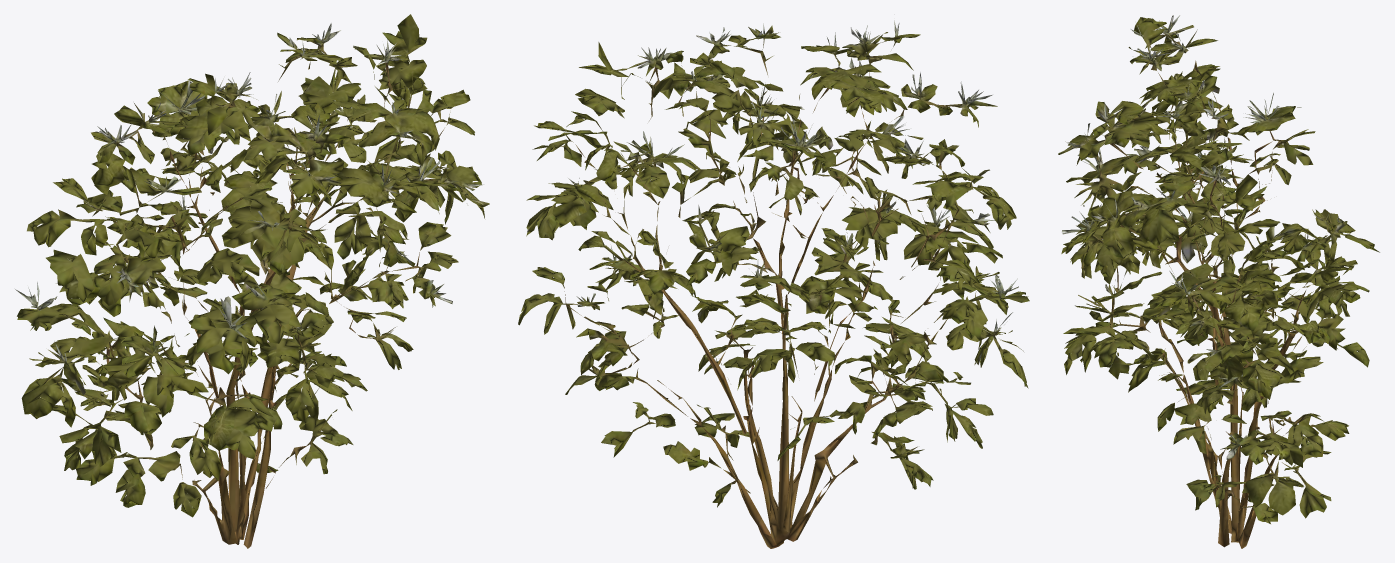
Rendered from NoodleTree.glb.
3 renders of one model, left to right at view 1: azimuth 30°, elevation 25°; view 2: azimuth 150°, elevation 25°; view 3: azimuth 270°, elevation 25°, orthographic. The views are drawn at different scales.
Parts seen in each view (by area): view 1: Mesh_0; view 2: Mesh_0; view 3: Mesh_0.
Boxes of the visible parts, box(x1,y1,x2,y2) form: Mesh_0: box(15, 14, 489, 548); Mesh_0: box(518, 20, 1029, 548); Mesh_0: box(1058, 15, 1379, 548).
Bounding box in the file's own units: 0.9601 × 1 × 0.5912.
1 material, 1 textured.
